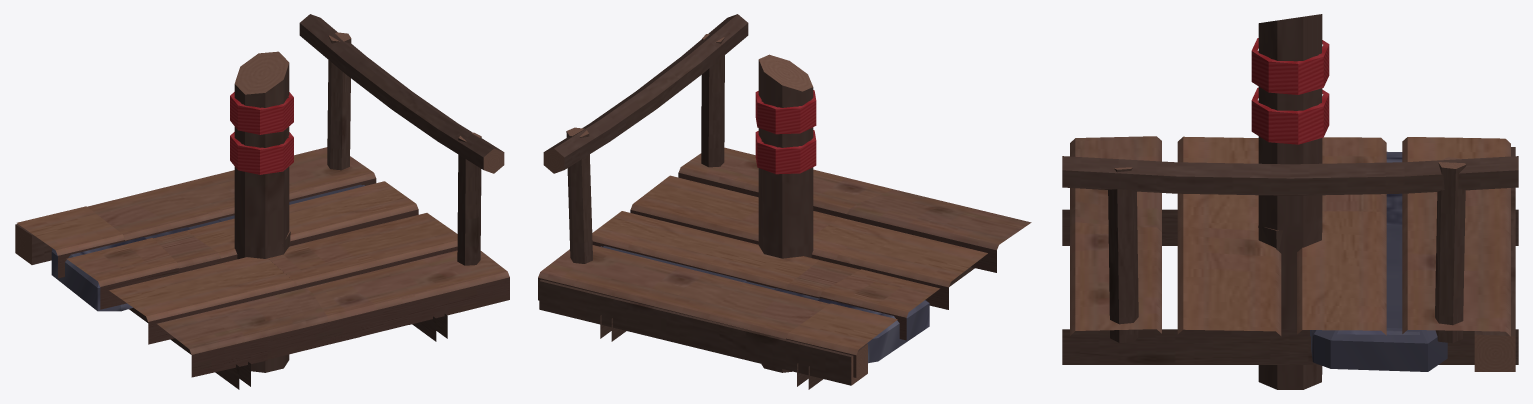
File: env_bridge_t238-Cq9W-PwY.glb
3 renders of one model, left to right at view 1: azimuth 30°, elevation 25°; view 2: azimuth 150°, elevation 25°; view 3: azimuth 270°, elevation 25°, orthographic. The views are drawn at different scales.
Visible parts, largest first — view 1: deck_b, deck_a, post, rail, sill_b, sill_a; view 2: deck_b, deck_a, rail, post, sill_a, sill_b; view 3: deck_b, deck_a, rail, post, sill_a, sill_b.
Boxes of the visible parts, x1=… form: deck_b: x1=58, y1=147, x2=509, y2=386; deck_a: x1=17, y1=178, x2=509, y2=389; post: x1=230, y1=51, x2=293, y2=372; rail: x1=299, y1=14, x2=504, y2=265; sill_b: x1=51, y1=185, x2=365, y2=311; sill_a: x1=15, y1=184, x2=363, y2=264; deck_b: x1=538, y1=174, x2=1031, y2=386; deck_a: x1=538, y1=147, x2=996, y2=389; rail: x1=543, y1=14, x2=748, y2=263; post: x1=755, y1=54, x2=816, y2=372; sill_a: x1=539, y1=246, x2=869, y2=385; sill_b: x1=600, y1=246, x2=929, y2=362; deck_b: x1=1062, y1=136, x2=1518, y2=336; deck_a: x1=1062, y1=136, x2=1518, y2=364; rail: x1=1062, y1=156, x2=1518, y2=343; post: x1=1251, y1=14, x2=1329, y2=389; sill_a: x1=1313, y1=147, x2=1515, y2=371; sill_b: x1=1310, y1=151, x2=1419, y2=362.
Bounding box in the file's own units: 1 × 0.9019 × 1.
2 materials, 2 textured.
